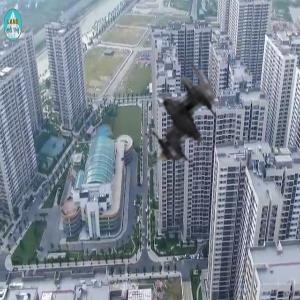drone: (121, 57, 239, 175)
